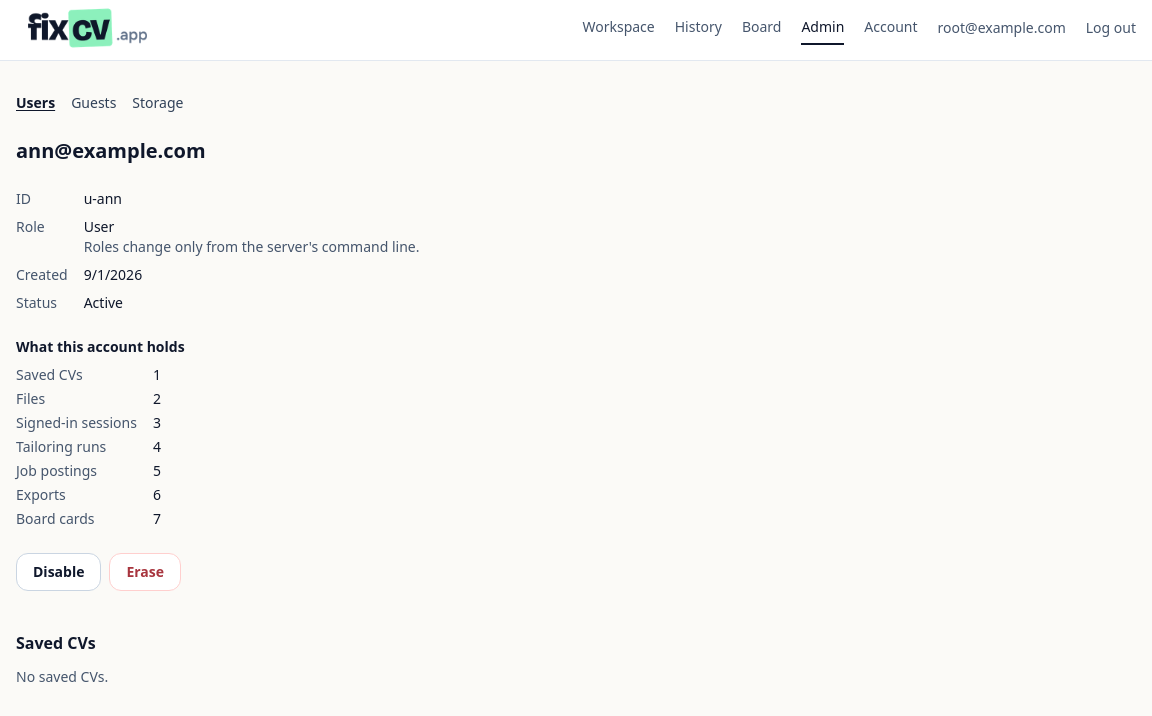
Disable and enable — AC-34 › Disable opens a dialog naming the email and saying the user is signed out; nothing is sent yet
This screenshot has width=1152, height=716.
Click the button "Disable" at (59, 572), box [16, 553, 102, 591]
(page scrolled)
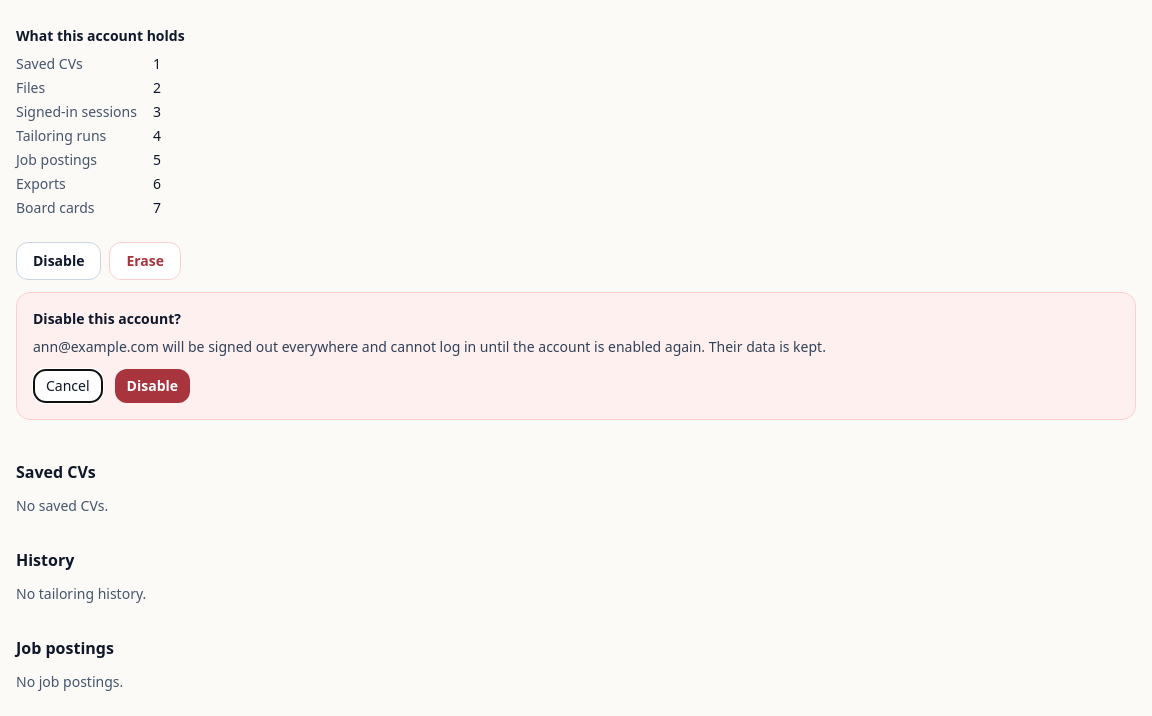
Expected: the dialog does not show "This is your account; you will be signed out.", [16, 292, 1136, 420]
Now the heading "Disable this account?" is shown, box [33, 309, 181, 328]
